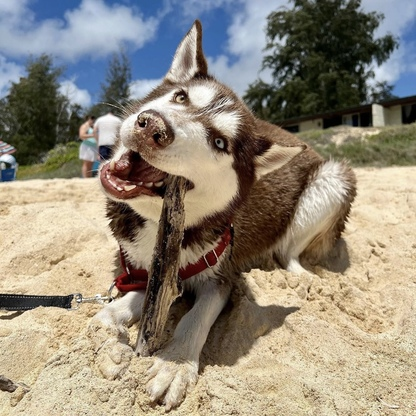husky: (88, 17, 361, 411)
